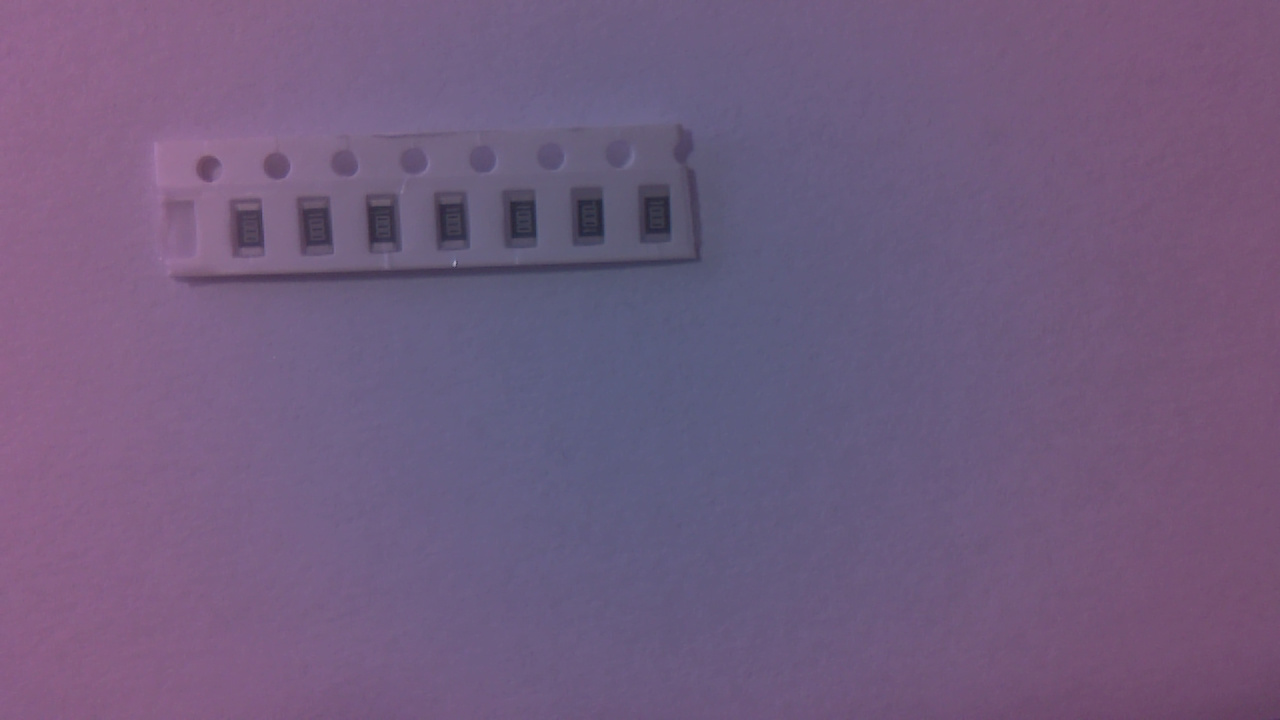Resistor: (575, 187, 616, 249), (302, 200, 343, 262), (505, 191, 546, 253), (235, 201, 274, 264), (369, 196, 407, 259), (642, 186, 679, 250), (438, 193, 475, 256)
